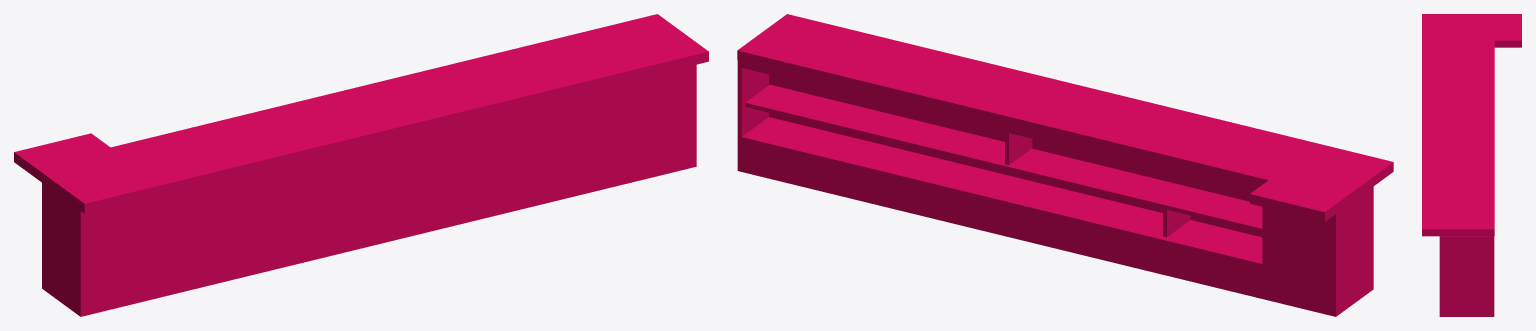
The model's file is Shop_Counter_01_Lod0.fbx.
3 views of the same model, side by side, from view 1: azimuth 30°, elevation 25°; view 2: azimuth 150°, elevation 25°; view 3: azimuth 270°, elevation 25° (orthographic). The views are drawn at different scales.
Parts seen in each view (by area): view 1: Shop_Counter_01_Lod0; view 2: Shop_Counter_01_Lod0; view 3: Shop_Counter_01_Lod0.
Boxes of the visible parts, box(x1,y1,x2,y2) form: Shop_Counter_01_Lod0: box(14, 14, 708, 316); Shop_Counter_01_Lod0: box(737, 14, 1393, 316); Shop_Counter_01_Lod0: box(1422, 14, 1521, 316).
Size of the model in its own units: 454 by 86.36 by 89.12.
